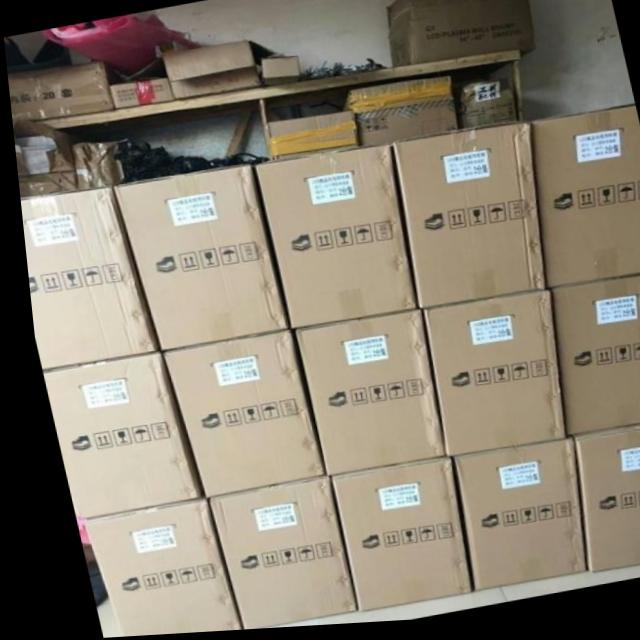box: (108, 164, 280, 352), (251, 149, 409, 332), (388, 128, 538, 314), (153, 331, 314, 499), (36, 353, 189, 521), (286, 313, 436, 478), (16, 188, 151, 371), (414, 293, 554, 461), (198, 478, 344, 632), (71, 500, 227, 637), (526, 109, 640, 294), (320, 461, 457, 614), (442, 445, 572, 595), (544, 280, 640, 441), (561, 429, 640, 578), (386, 0, 534, 72), (339, 80, 455, 152), (6, 62, 113, 122), (261, 115, 353, 164), (158, 43, 254, 84), (169, 67, 260, 101), (455, 83, 515, 132), (107, 79, 173, 108), (260, 59, 299, 89)
